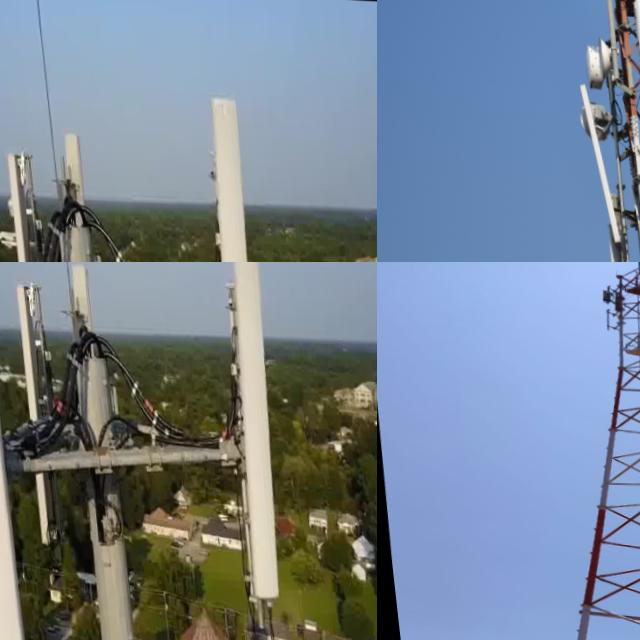GSM Antenna: (204, 262, 294, 611), (184, 86, 274, 262), (6, 279, 59, 544), (0, 262, 34, 640), (56, 262, 107, 502), (566, 79, 611, 246), (53, 105, 91, 262), (0, 150, 51, 262), (620, 0, 640, 163), (599, 284, 612, 302), (629, 262, 640, 274)
Microwave Antenna: (570, 42, 599, 90), (587, 33, 612, 74)
